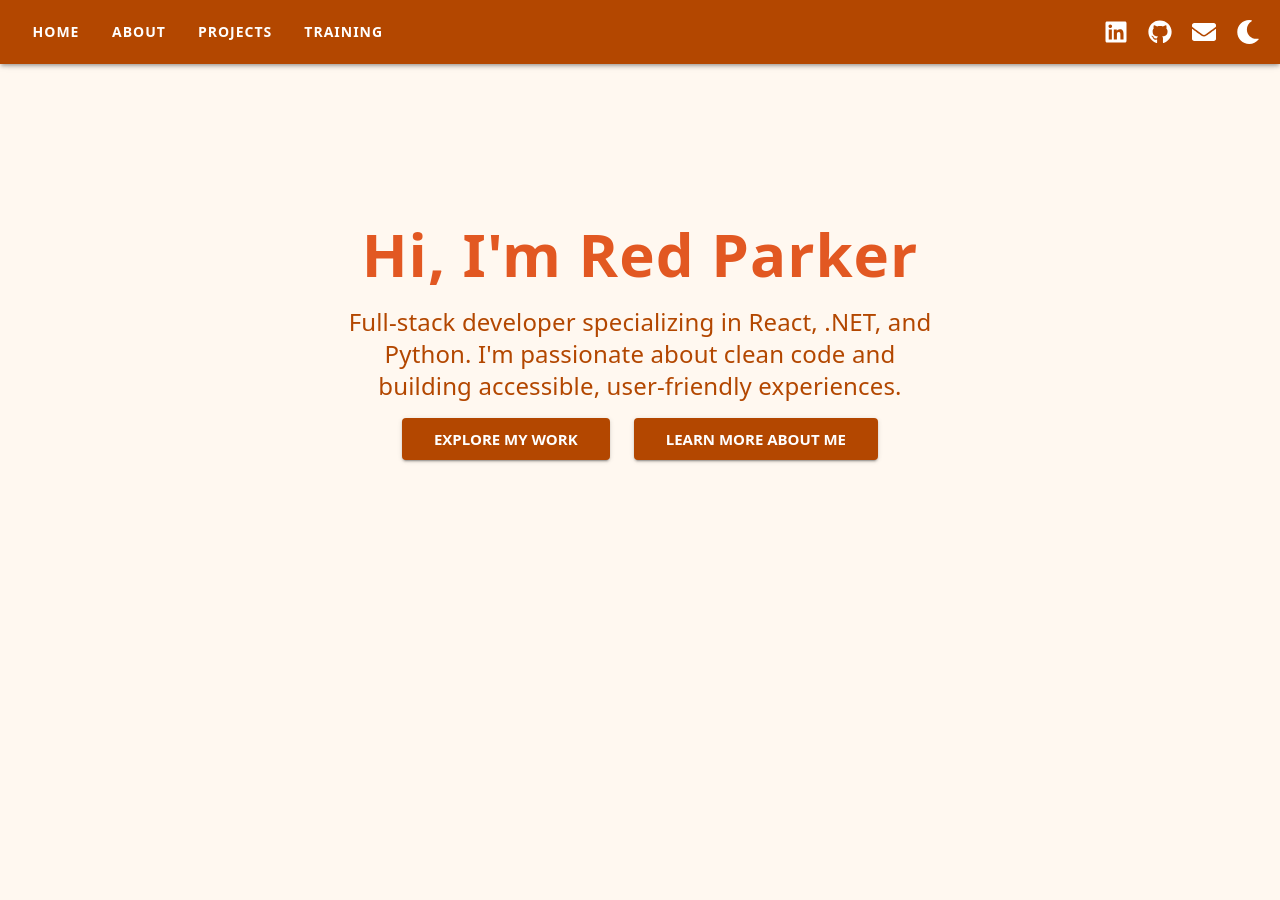
Test: Theme toggling › toggles between light and dark mode when the icon is clicked
Check: the icon with test id "FaMoon" is shown, box [1236, 20, 1260, 44]
Click the button named "toggle dark mode": coordinates (1248, 32) [1228, 12, 1268, 52]
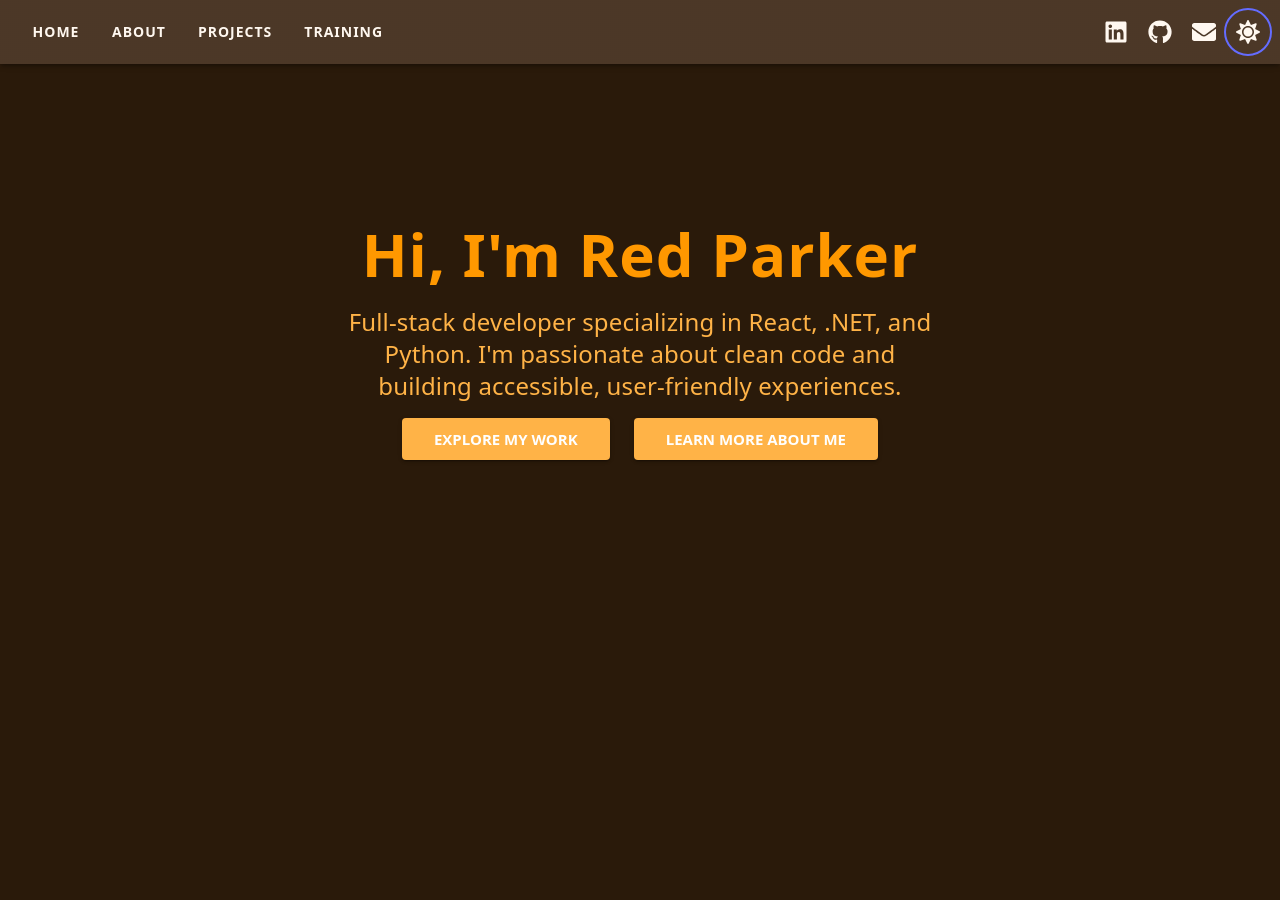
Check: the icon with test id "FaSun" is shown, box [1236, 20, 1260, 44]
